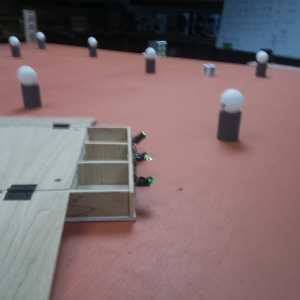blockF: (203, 64, 217, 78)
corner: (23, 10, 38, 44)
obstacle: (216, 88, 246, 142), (17, 64, 45, 111), (254, 50, 269, 80), (144, 48, 157, 77), (8, 35, 20, 60), (36, 32, 48, 51), (88, 37, 97, 57)
side: (130, 127, 156, 210)
